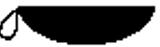Basket: (1, 4, 157, 46)
